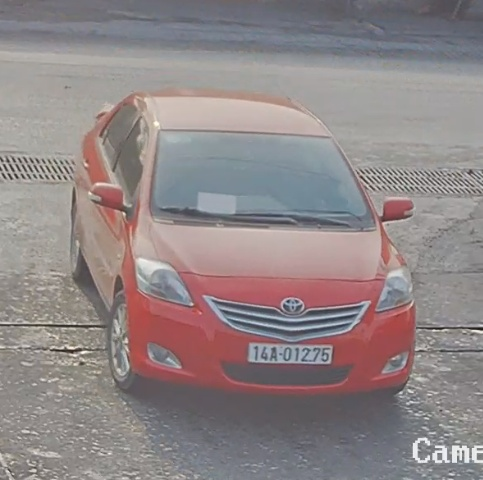vehicle plate: (244, 338, 334, 371)
